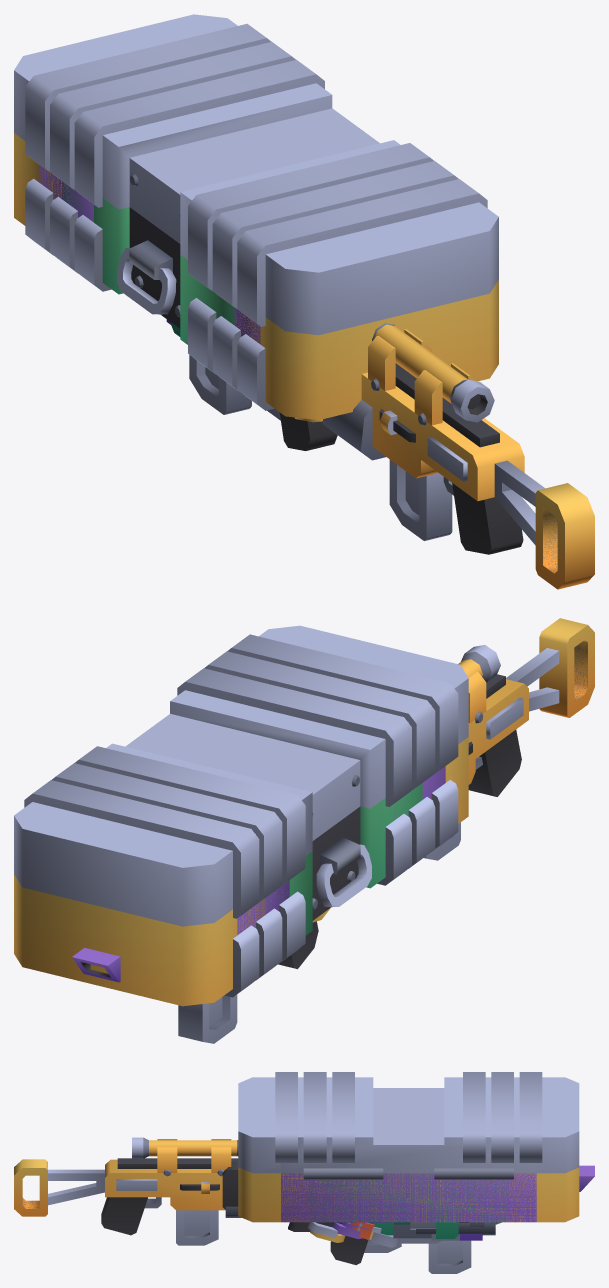
File: weapons.glb
3 views of the same model, one above another, from view 1: azimuth 30°, elevation 25°; view 2: azimuth 150°, elevation 25°; view 3: azimuth 270°, elevation 25° (orthographic). The views are drawn at different scales.
Visible parts, largest first — view 1: lid (×3), blaster-e, crate-wide, crate-small, crate-medium, scope, magazine (×2), blaster-a; view 2: lid (×3), crate-wide, blaster-e, crate-medium, crate-small, magazine, scope, blaster-f, blaster-a; view 3: lid (×3), crate-medium, blaster-e, crate-wide, crate-small, magazine (×3), scope, blaster-a, blaster-f, blaster-q, blaster-o, blaster-b.
Boxes of the visible parts, x1,y1,x2,y2 form: lid (×3): (14,14,498,335); blaster-e: (322,363,594,589); crate-wide: (14,133,498,420); crate-small: (63,182,235,374); crate-medium: (38,165,260,392); scope: (368,323,494,425); magazine (×2): (189,355,452,540); blaster-a: (279,412,337,450); lid (×3): (14,625,468,926); crate-wide: (14,737,468,1006); blaster-e: (468,618,594,796); crate-medium: (237,766,445,980); crate-small: (262,783,422,963); magazine: (178,994,237,1043); scope: (458,645,500,723); blaster-f: (72,947,120,982); blaster-a: (278,921,318,969); lid (×3): (238,1072,579,1173); crate-medium: (281,1168,536,1222); blaster-e: (14,1158,241,1235); crate-wide: (238,1167,579,1222); crate-small: (309,1168,507,1222); magazine (×3): (176,1210,471,1273); scope: (132,1137,238,1176); blaster-a: (330,1222,483,1264); blaster-f: (222,1161,594,1231); blaster-q: (308,1222,501,1238); blaster-o: (357,1222,458,1238); blaster-b: (367,1232,400,1247).
Bounding box in the file's own units: 0.5495 × 0.653 × 2.05.
Materials: 1 (1 with a texture image).
